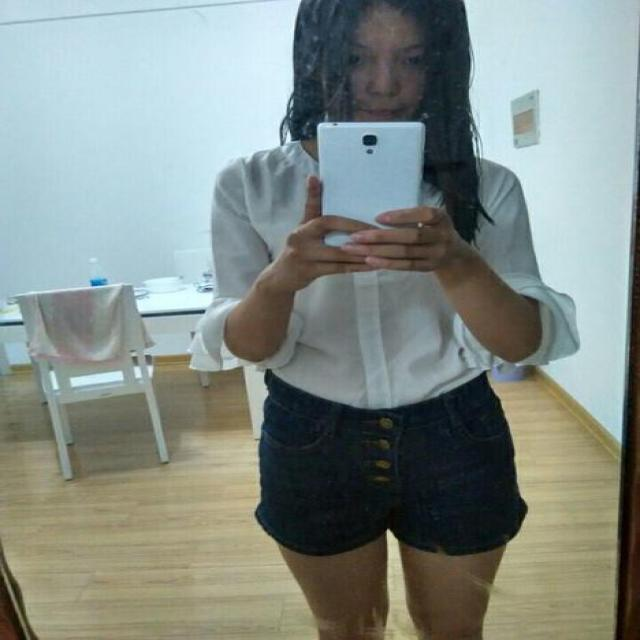long sleeve top: (190, 144, 576, 409)
shorts: (257, 374, 526, 537)
